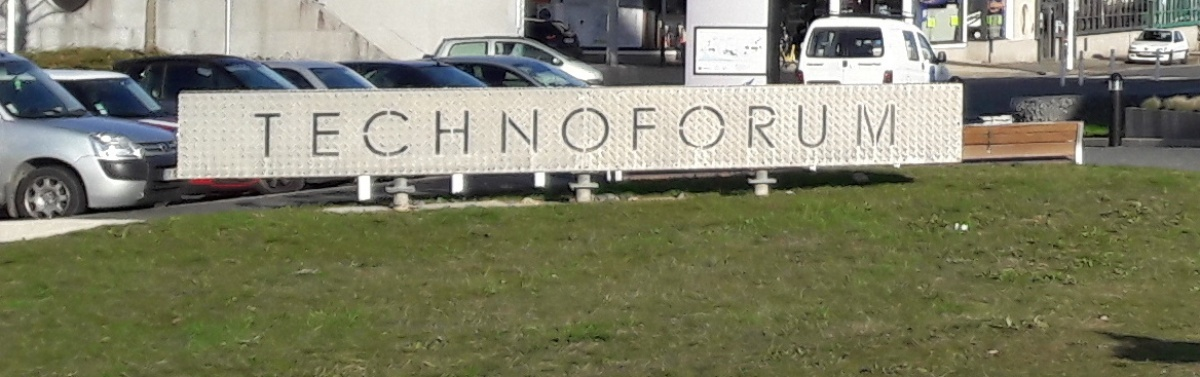text: (257, 100, 272, 162), (273, 100, 288, 162), (289, 100, 304, 162), (305, 100, 320, 162), (321, 100, 336, 162), (337, 100, 352, 162), (353, 100, 368, 162), (369, 100, 384, 162), (385, 100, 400, 162), (401, 100, 416, 162), (417, 100, 432, 162), (433, 100, 448, 162), (449, 100, 464, 162), (465, 100, 480, 162), (481, 100, 496, 162), (497, 100, 512, 162), (513, 100, 528, 162), (529, 100, 544, 162), (545, 100, 560, 162), (561, 100, 576, 162), (577, 100, 592, 162), (593, 100, 608, 162), (609, 100, 624, 162), (625, 100, 640, 162), (641, 100, 656, 162), (657, 100, 672, 162), (673, 100, 688, 162), (689, 100, 704, 162), (705, 100, 720, 162), (721, 100, 736, 162), (737, 100, 752, 162), (753, 100, 768, 162), (769, 100, 784, 162), (785, 100, 800, 162), (801, 100, 816, 162), (817, 100, 832, 162), (833, 100, 848, 162), (849, 100, 864, 162), (865, 100, 880, 162), (881, 100, 896, 162), (250, 100, 256, 162), (897, 100, 903, 162)
